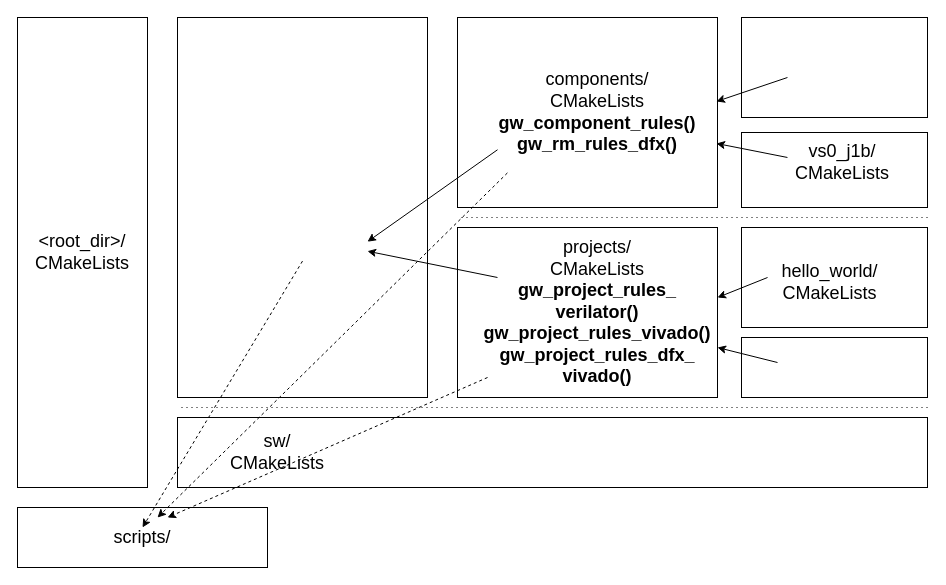
Image size: 946x585. Some labels were removed from this diagram. The centre of each missing label's shape, as x and y in pixels:
"dfx_test/ CMakeLists" belongs at (834,367).
"gw/ CMakeLists gw_common_rules()" belongs at (302,207).
"wbuart32/ CMakeLists" belongs at (834,67).
